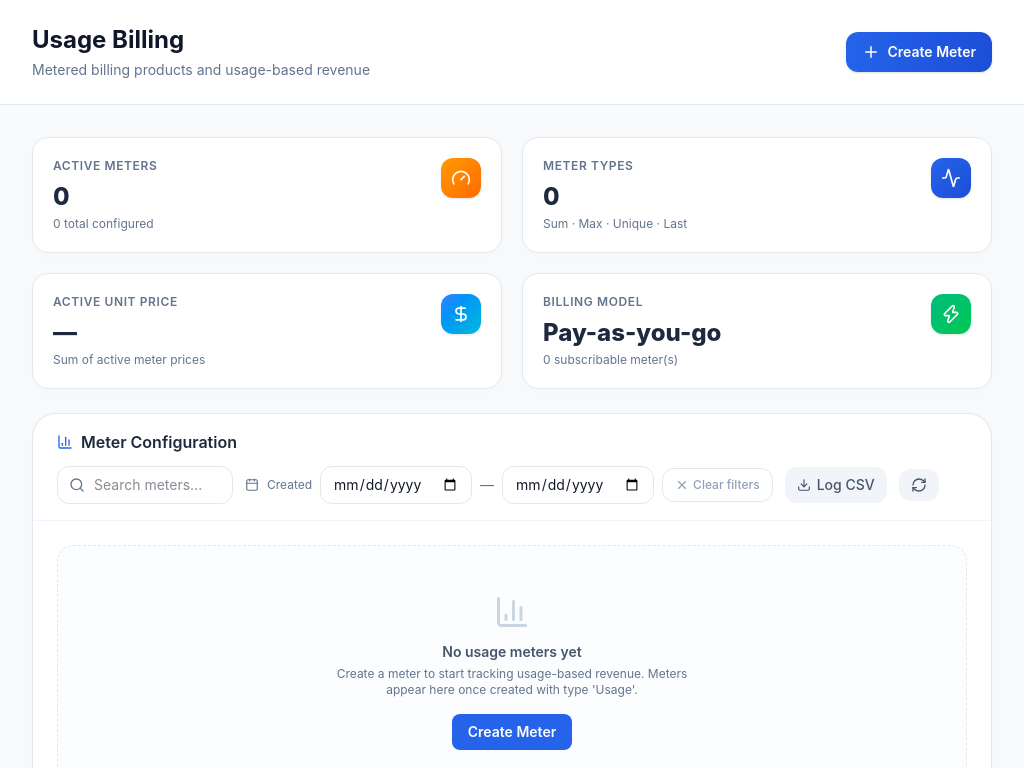
Test: B3 Usage Billing dates › an end date alone also enables Clear
The image size is (1024, 768).
Type "2026-12-31" into the date field named "Created to date" at (578, 485), box [502,466,654,504]
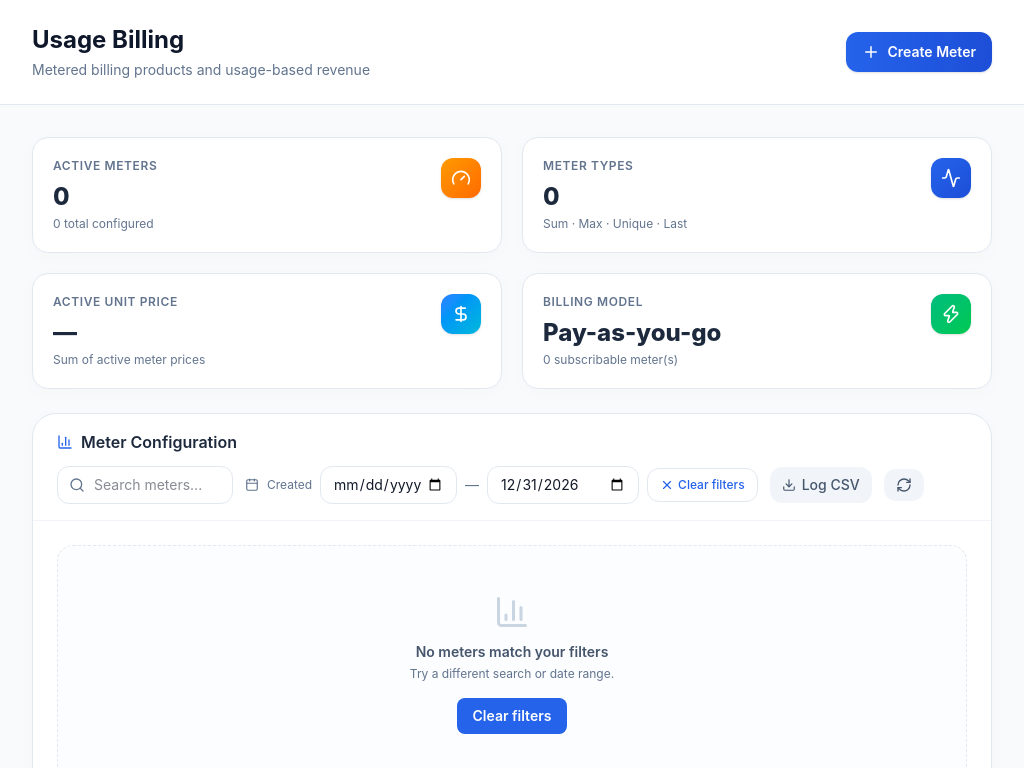
Expected: the 1st button "Clear filters" is enabled, [647,468,758,502]
